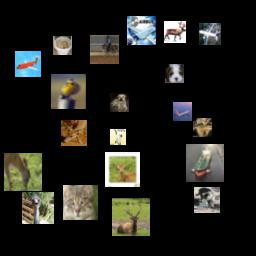airplane: (127, 16, 156, 45), (15, 51, 41, 77), (199, 23, 221, 45), (173, 102, 192, 121)
bird: (51, 74, 86, 109), (22, 192, 54, 224)
cat: (63, 185, 98, 220), (194, 187, 220, 213), (53, 36, 72, 55), (193, 118, 212, 137), (110, 129, 126, 145)
deer: (4, 153, 42, 191), (112, 198, 150, 236), (105, 152, 140, 187), (61, 120, 87, 146), (164, 21, 186, 43)
dog: (110, 93, 129, 112), (165, 64, 184, 83)
ship: (186, 144, 224, 182)
